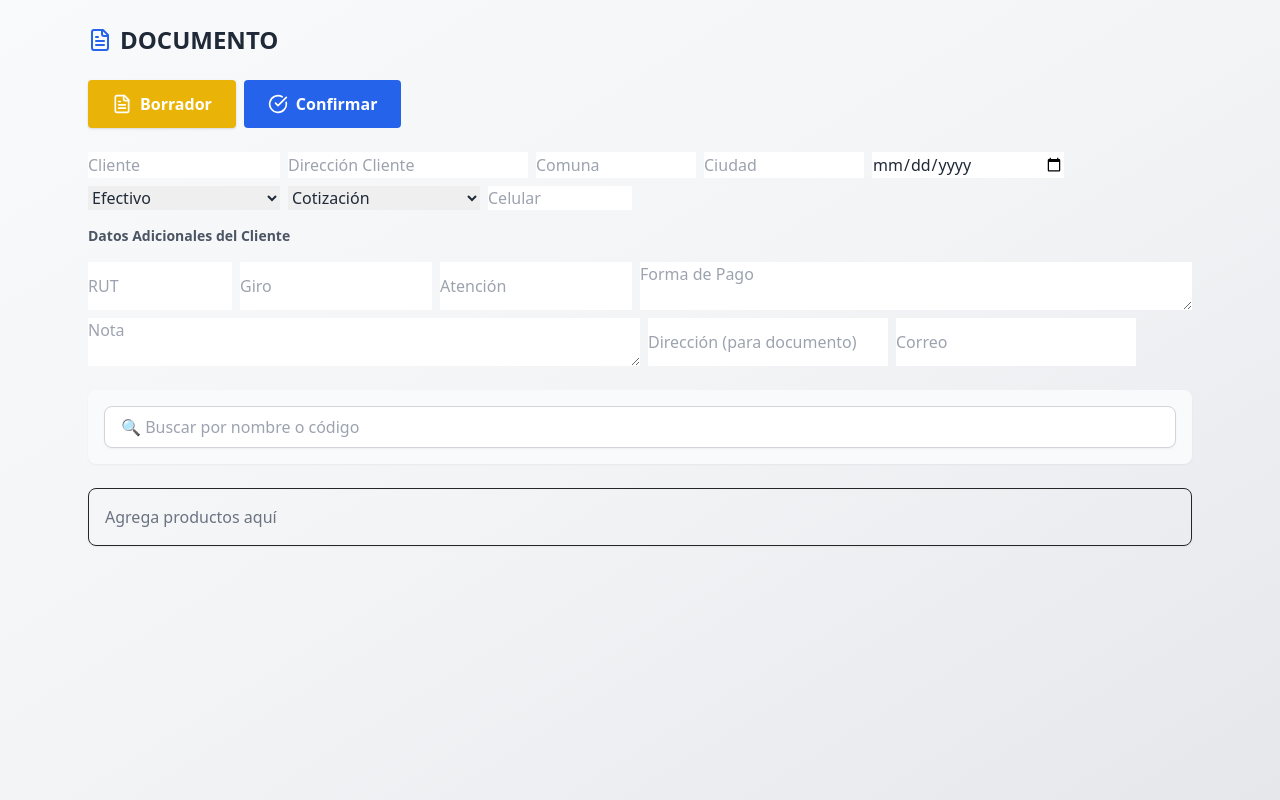
it: Cotizaciones UI + cálculo de precios › muestra título DOCUMENTO y agrega un producto correctamente
The width and height of the screenshot is (1280, 800).
Expected: the heading "DOCUMENTO" is shown, [88,23,278,56]
# 🔹 Escribe el nombre del producto
Type "Producto Test" into the field with placeholder "🔍 Buscar por nombre o código" at [640, 427], box [104,406,1176,448]
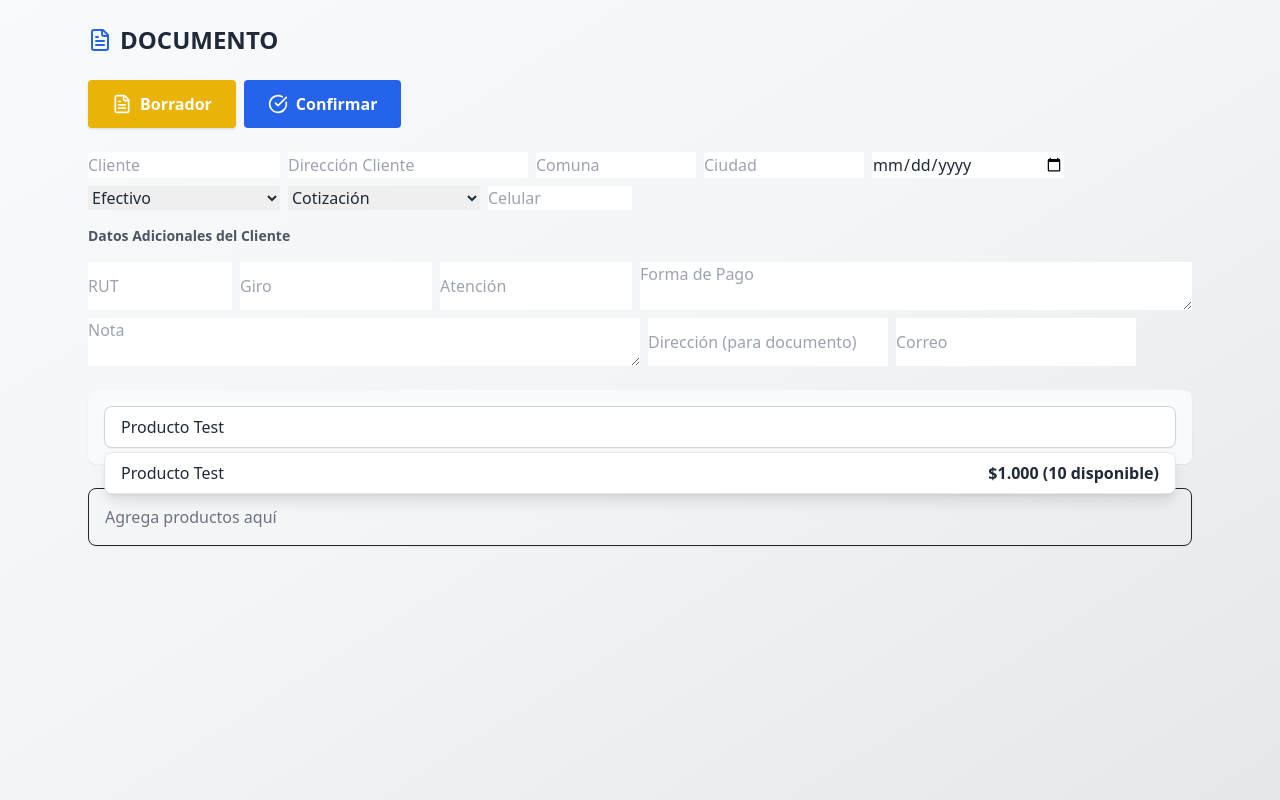
Expected: the text "Producto Test" is shown
# 🔹 Click sobre el producto para agregarlo
Click the text "Producto Test" at [172, 473], box [121,461,224,485]
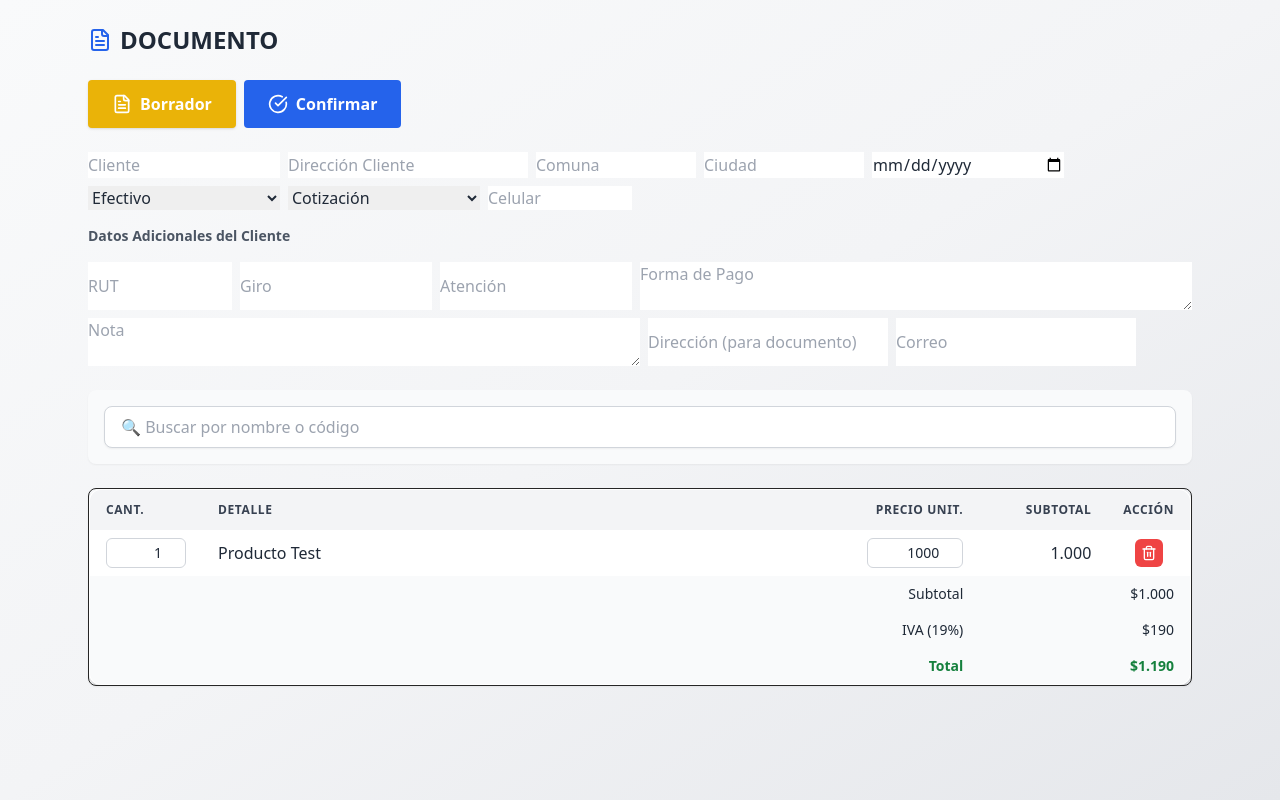
Expected: the text "Producto Test" is shown, [202,530,851,576]
Expected: the text "$1.000" is shown, [979,576,1190,612]
Expected: the text "$190" is shown, [979,612,1190,648]
